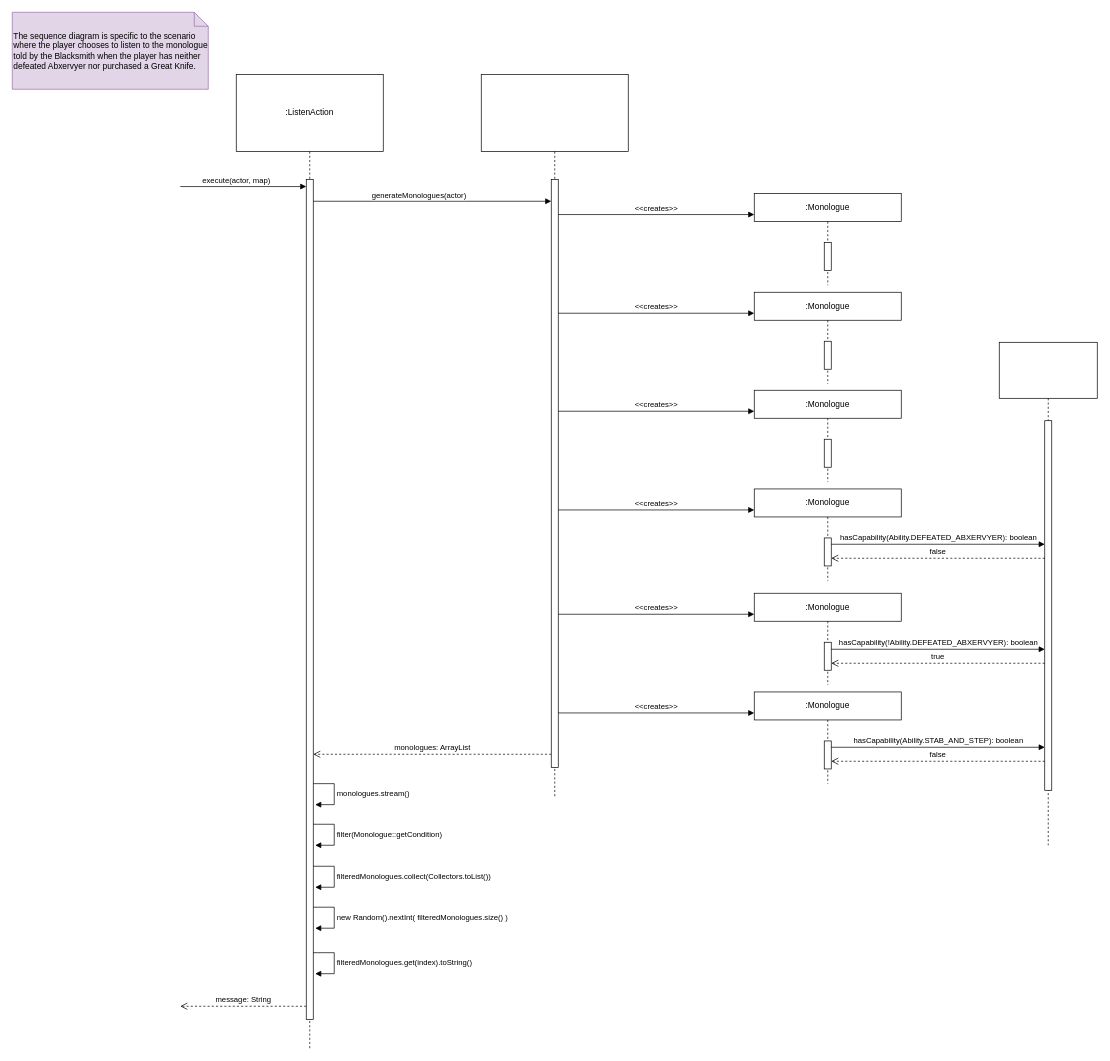
The diagram is 1110 pixels wide and 1061 high, and some of its shapes have lost their labels. The shapes that lost their labels are listed below. From the top down, each one's box as (x1, y1, x2, y2) in pixels, then its label:
(481, 74, 628, 796): speaker: Blacksmith
(999, 342, 1097, 845): actor: Player
